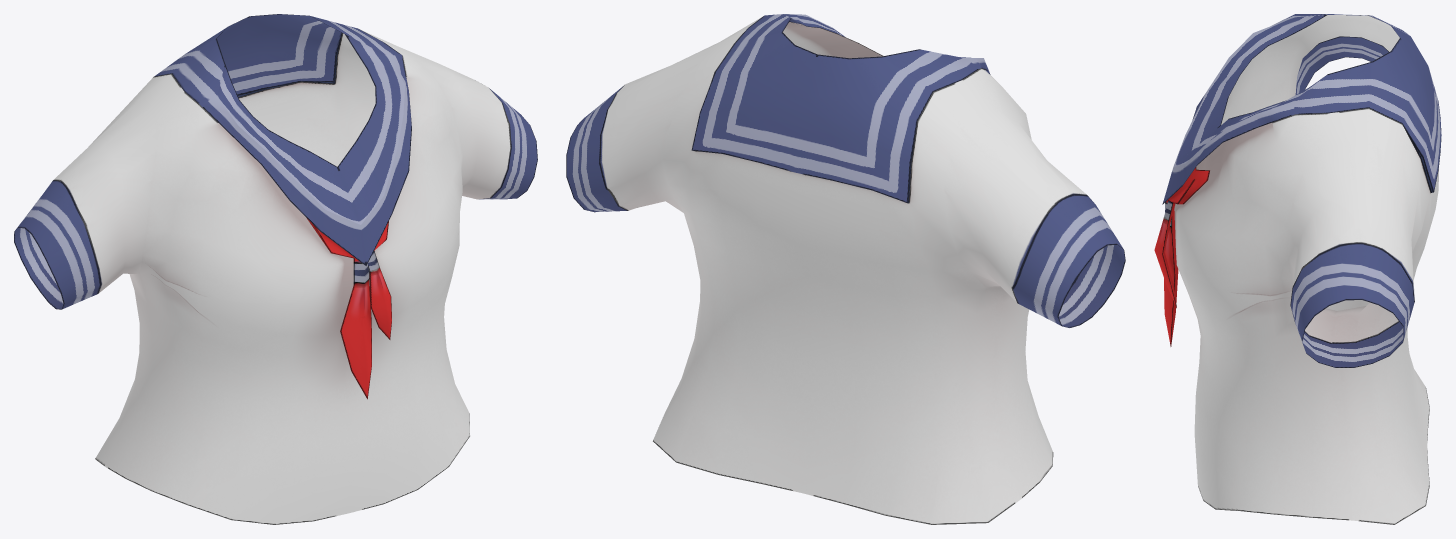
The model's file is shirt.glb.
The picture shows the model from 3 angles, left to right: view 1: azimuth 30°, elevation 25°; view 2: azimuth 150°, elevation 25°; view 3: azimuth 270°, elevation 25°; orthographic projection. The views are drawn at different scales.
Parts seen in each view (by area): view 1: shirt; view 2: shirt; view 3: shirt.
Part boxes in pixels (box(x1,y1,x2,y2)): shirt: box(14, 14, 537, 524); shirt: box(566, 14, 1125, 524); shirt: box(1154, 14, 1441, 524).
Bounding box in the file's own units: 0.5816 × 0.4785 × 0.289.
Materials: 1 (1 with a texture image).
